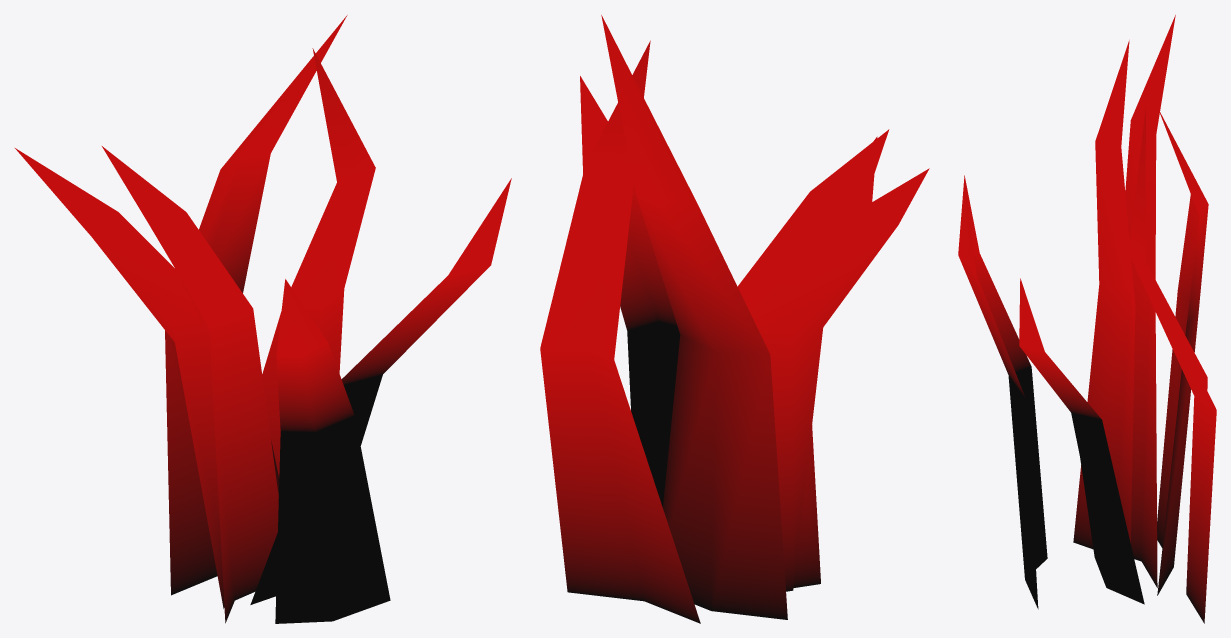
File: SM_Grass_02.fbx
3 views of the same model, side by side, from view 1: azimuth 30°, elevation 25°; view 2: azimuth 150°, elevation 25°; view 3: azimuth 270°, elevation 25° (orthographic). The views are drawn at different scales.
Visible parts, largest first — view 1: SM_Grass_02; view 2: SM_Grass_02; view 3: SM_Grass_02.
Part boxes in pixels (left/top/right/bottom): SM_Grass_02: left=15, top=15, right=511, bottom=623; SM_Grass_02: left=540, top=15, right=929, bottom=623; SM_Grass_02: left=958, top=15, right=1216, bottom=623.
Size of the model in its own units: 46.2 by 56.99 by 26.
